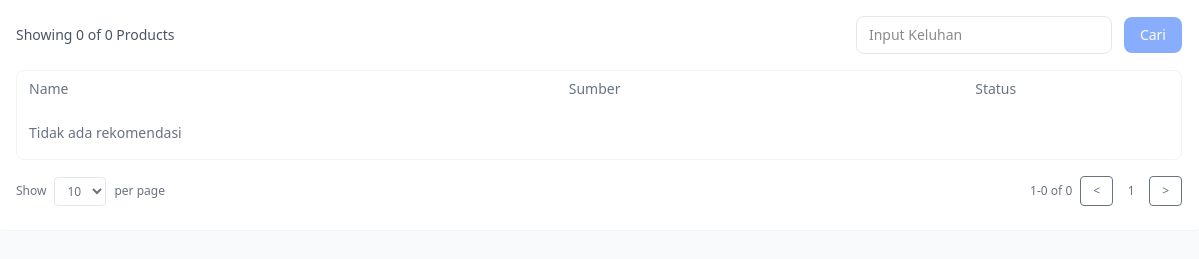
Scenario: substitutions module › handles search error with non-Error instance
The width and height of the screenshot is (1199, 259).
Type "demam" into the field with placeholder "Input Keluhan" at (984, 35), box [856,16,1112,54]
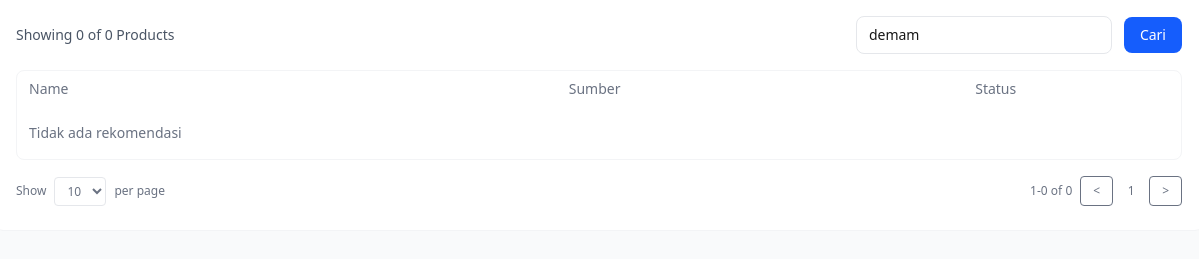
Click the button "Cari" at (1153, 35), box [1124,17,1182,53]
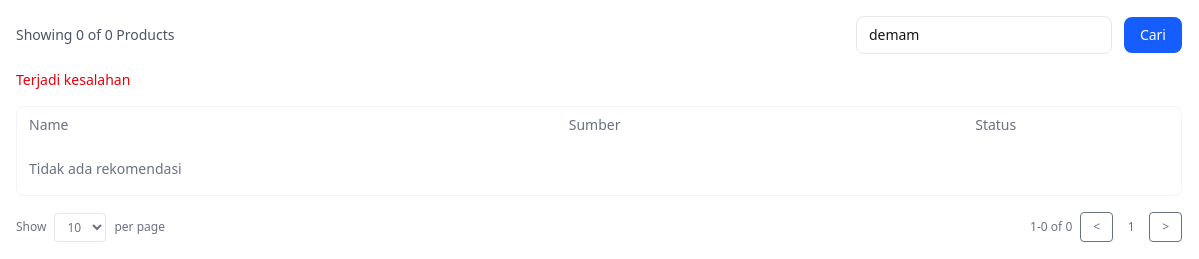
expect the text "Terjadi kesalahan" is shown: met, box [16,70,130,89]
